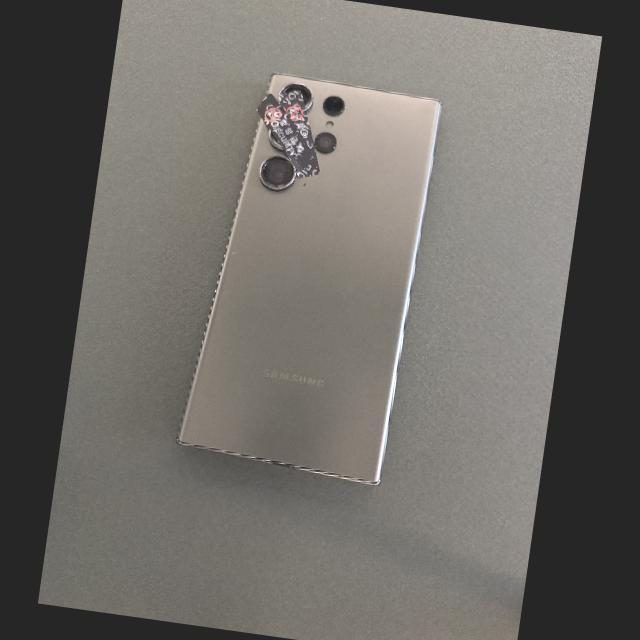lens: (258, 157, 295, 190), (281, 83, 312, 110), (325, 96, 344, 116), (270, 129, 282, 148)
phone: (177, 74, 441, 485)
sticker: (257, 93, 313, 172), (278, 91, 320, 178)
